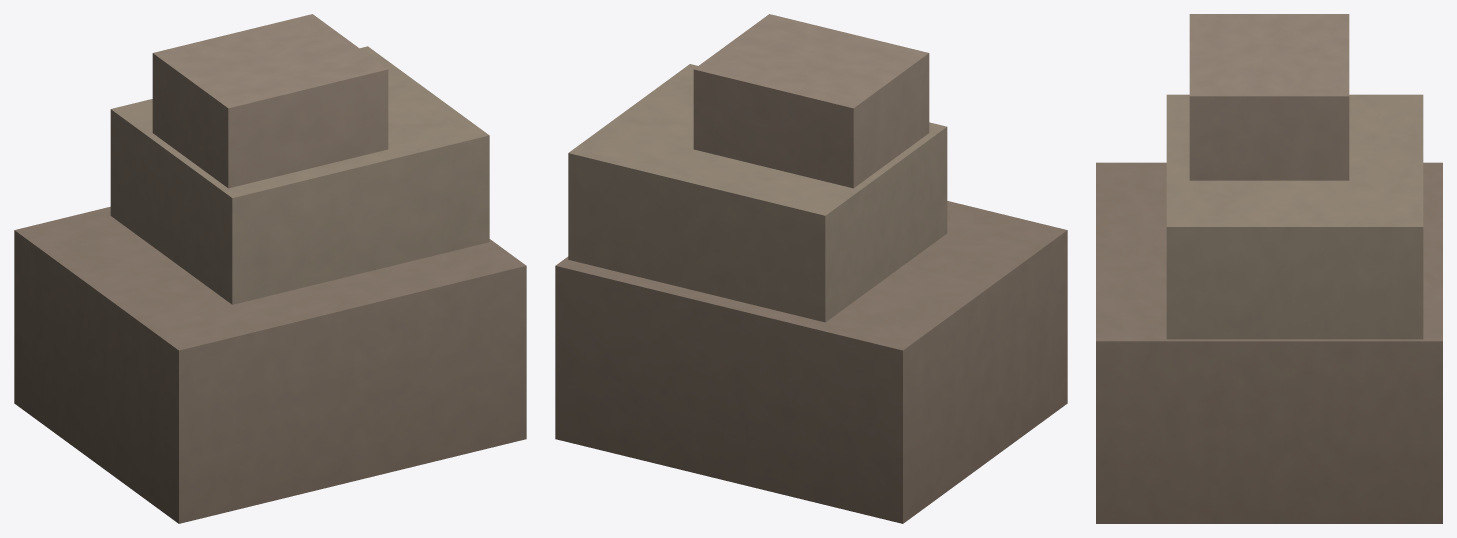
Rendered from mesa_silhouette.glb.
3 renders of one model, left to right at view 1: azimuth 30°, elevation 25°; view 2: azimuth 150°, elevation 25°; view 3: azimuth 270°, elevation 25°, orthographic. The views are drawn at different scales.
Parts seen in each view (by area): view 1: mesa_silhouette; view 2: mesa_silhouette; view 3: mesa_silhouette.
Part boxes in pixels (x1,y1,x2,y2): mesa_silhouette: (14, 14, 526, 523); mesa_silhouette: (555, 14, 1067, 523); mesa_silhouette: (1096, 14, 1442, 523).
Bounding box in the file's own units: 4.8 × 4.75 × 3.94.
Materials: 1 (1 with a texture image).
